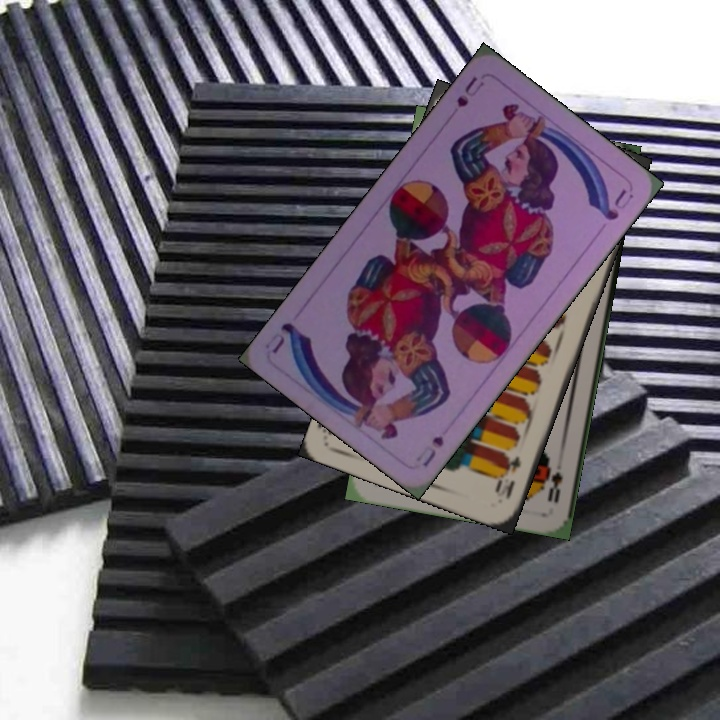E10: (490, 452, 524, 503)
SO: (543, 463, 565, 506)
SU: (412, 431, 447, 470), (452, 72, 487, 111)
